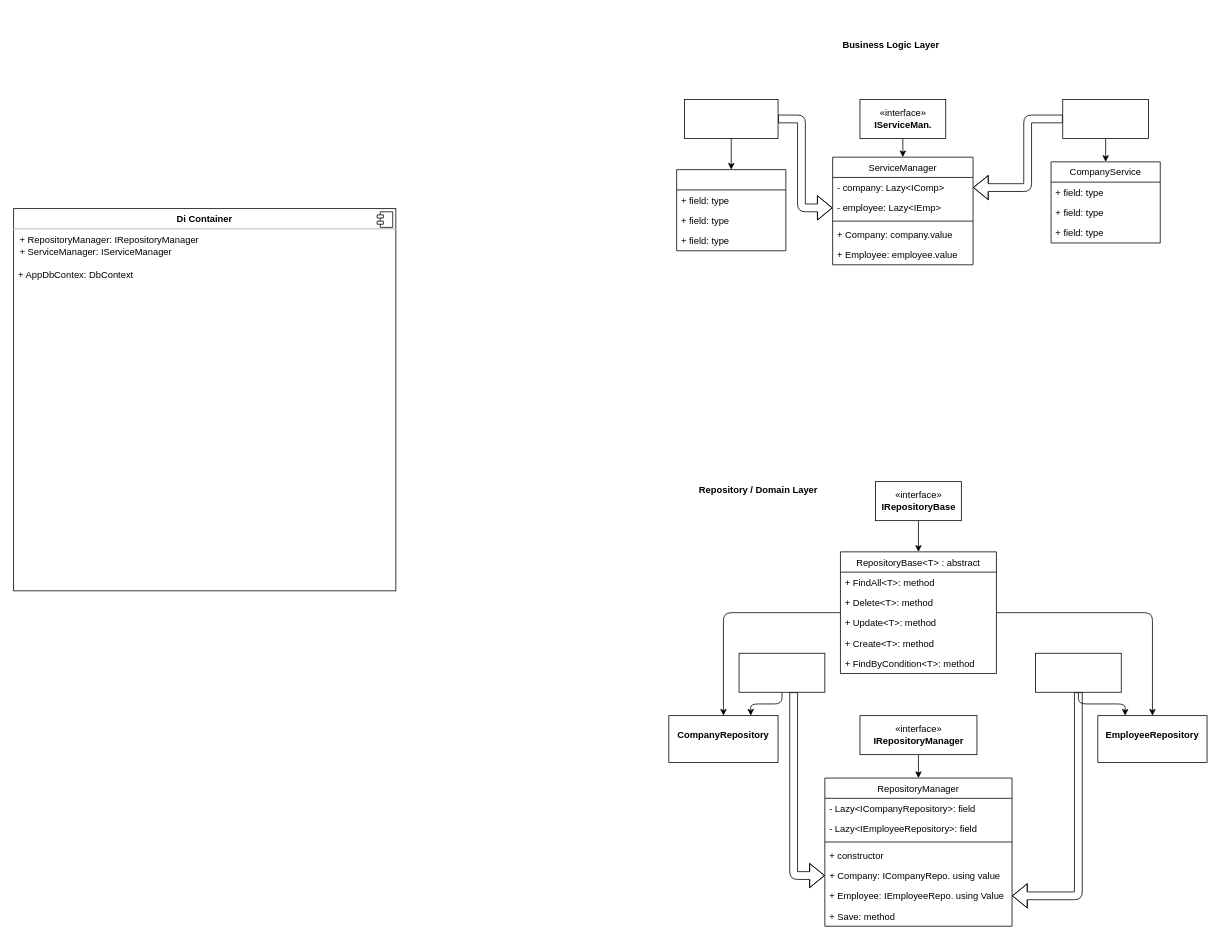
Some shapes in this 1221 by 941 pixel diagram are drawn without their labels. The box of each missing label's shape, as (x1, y1, x2, y2) in pixels:
EmployeeService: (676, 169, 786, 251)
«interface» ICompanyRepo: (738, 652, 825, 692)
«interface» ICompanyService: (1062, 99, 1149, 138)
«interface» IEmployeeRepo: (1035, 652, 1121, 692)
«interface» IEmployeeSerrvice: (684, 99, 778, 138)
